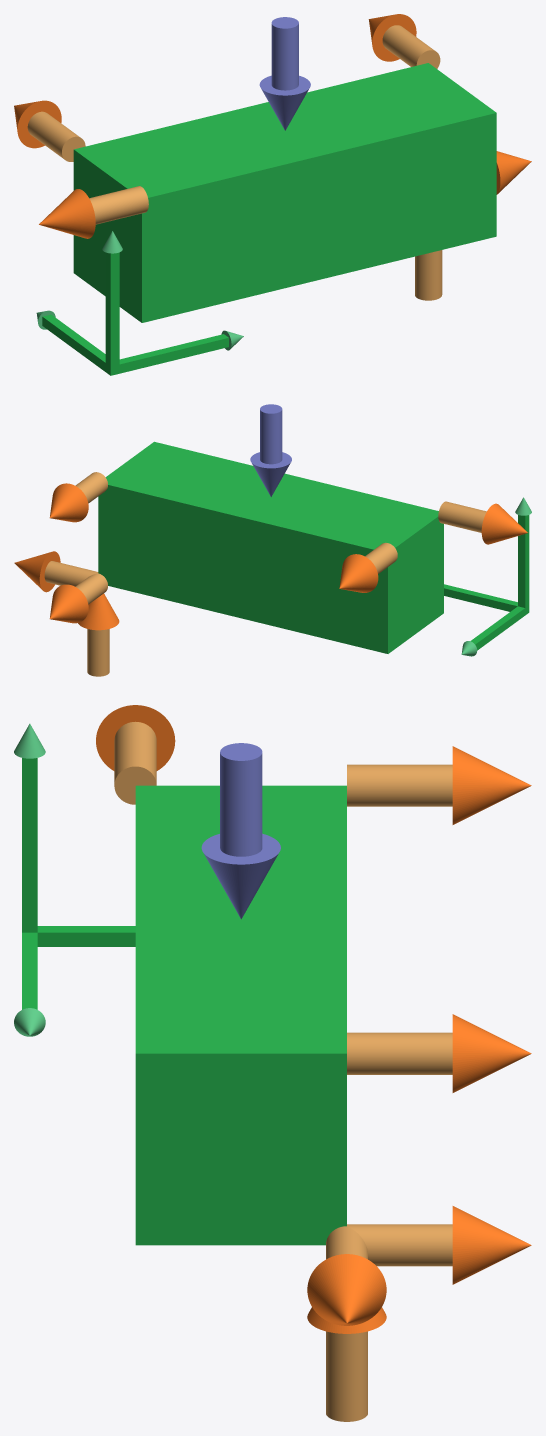
Rendered from GUE5A1.glb.
The picture shows the model from 3 angles, top to bottom: view 1: azimuth 30°, elevation 25°; view 2: azimuth 150°, elevation 25°; view 3: azimuth 270°, elevation 25°; orthographic projection. The views are drawn at different scales.
Size of the model in its own units: 0.19 by 0.11 by 0.098.
